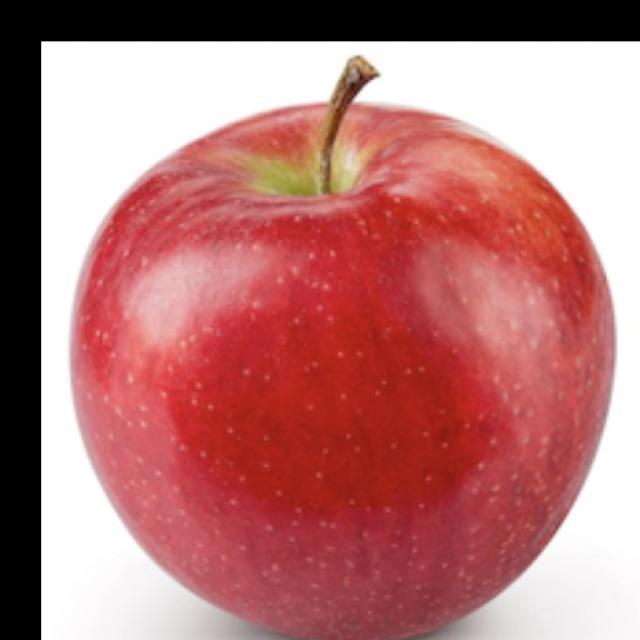Fresh Apple: (68, 50, 620, 640)
